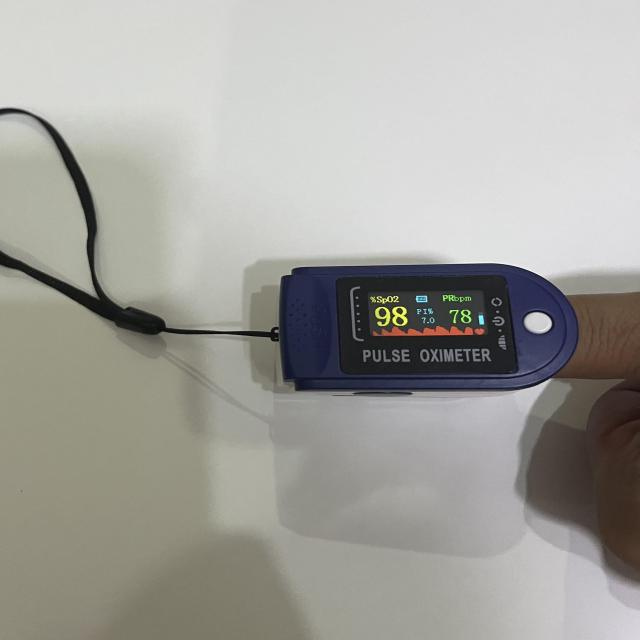spo2: (280, 265, 578, 393)
